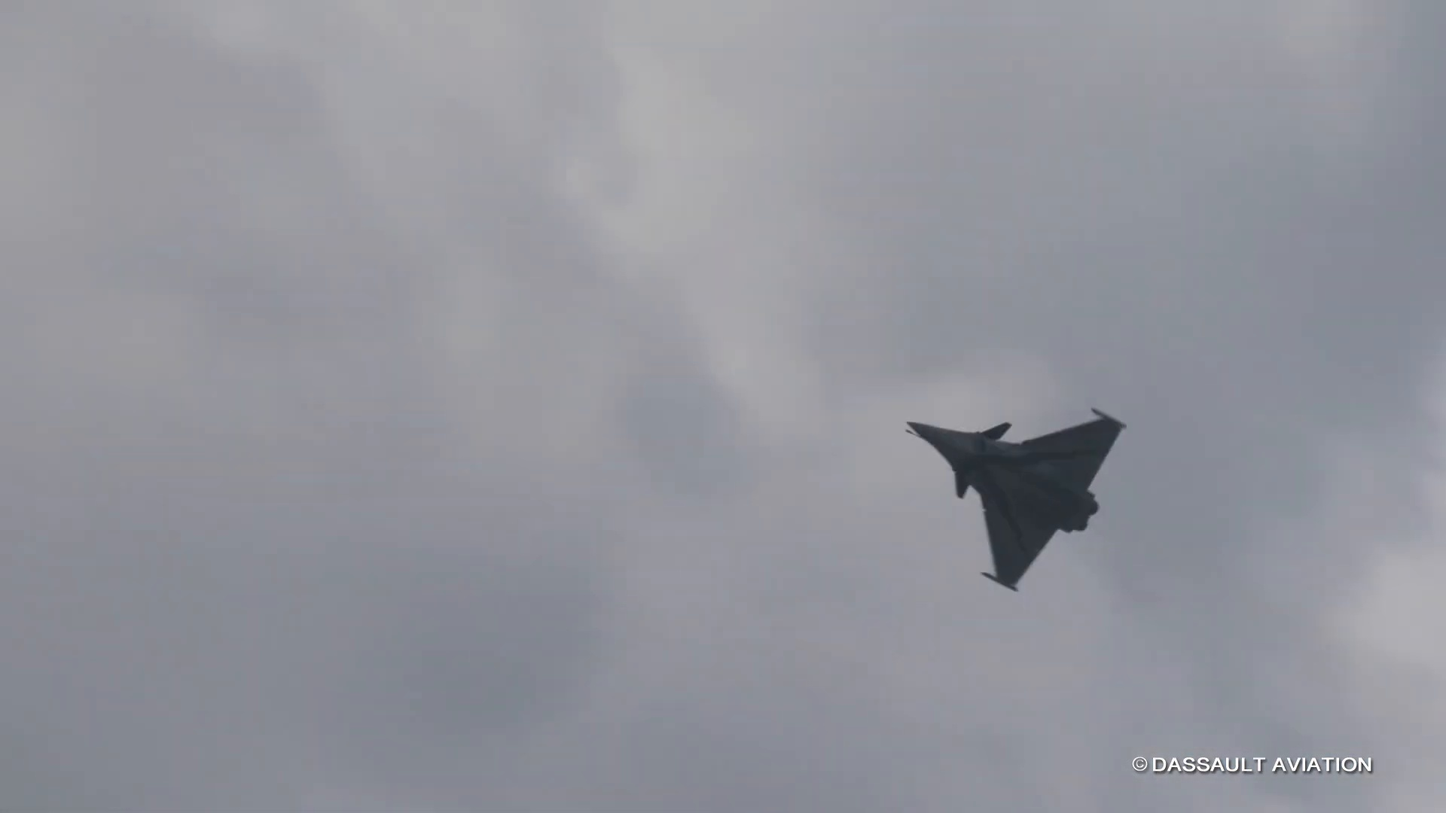Rafale: (895, 395, 1134, 604)
